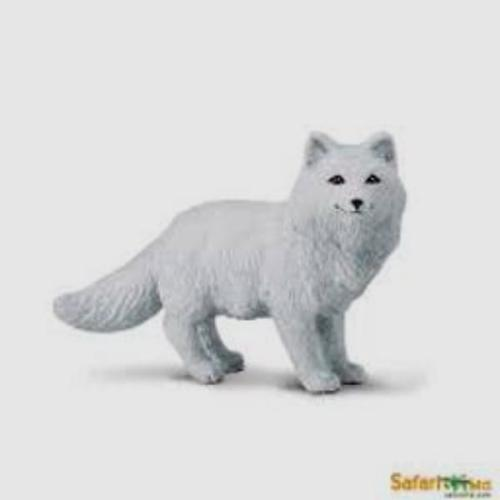arctic_fox-endangered: (69, 135, 405, 390)
